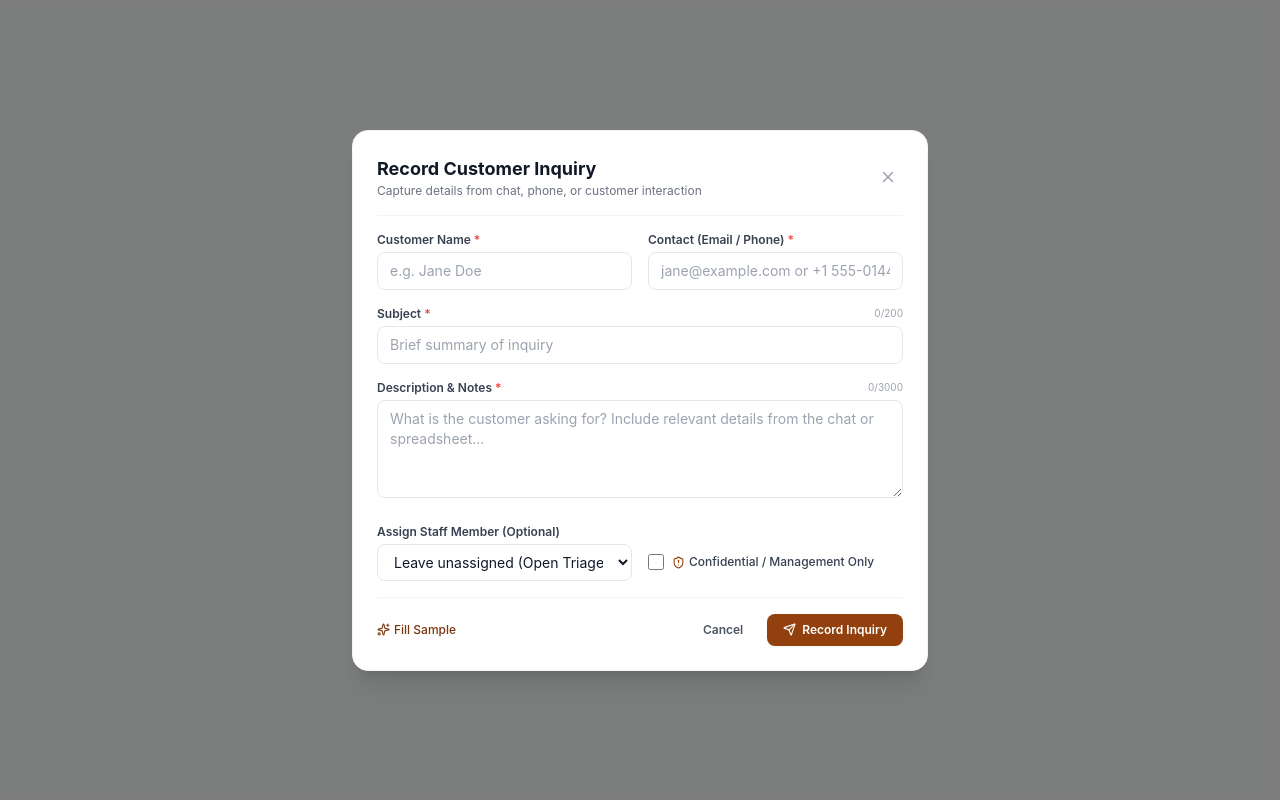
InquiryForm User Interaction & Validation › displays inline validation errors when submitting with empty fields
Click the button "Record Inquiry". click: (835, 630)
box: [767,614,903,646]
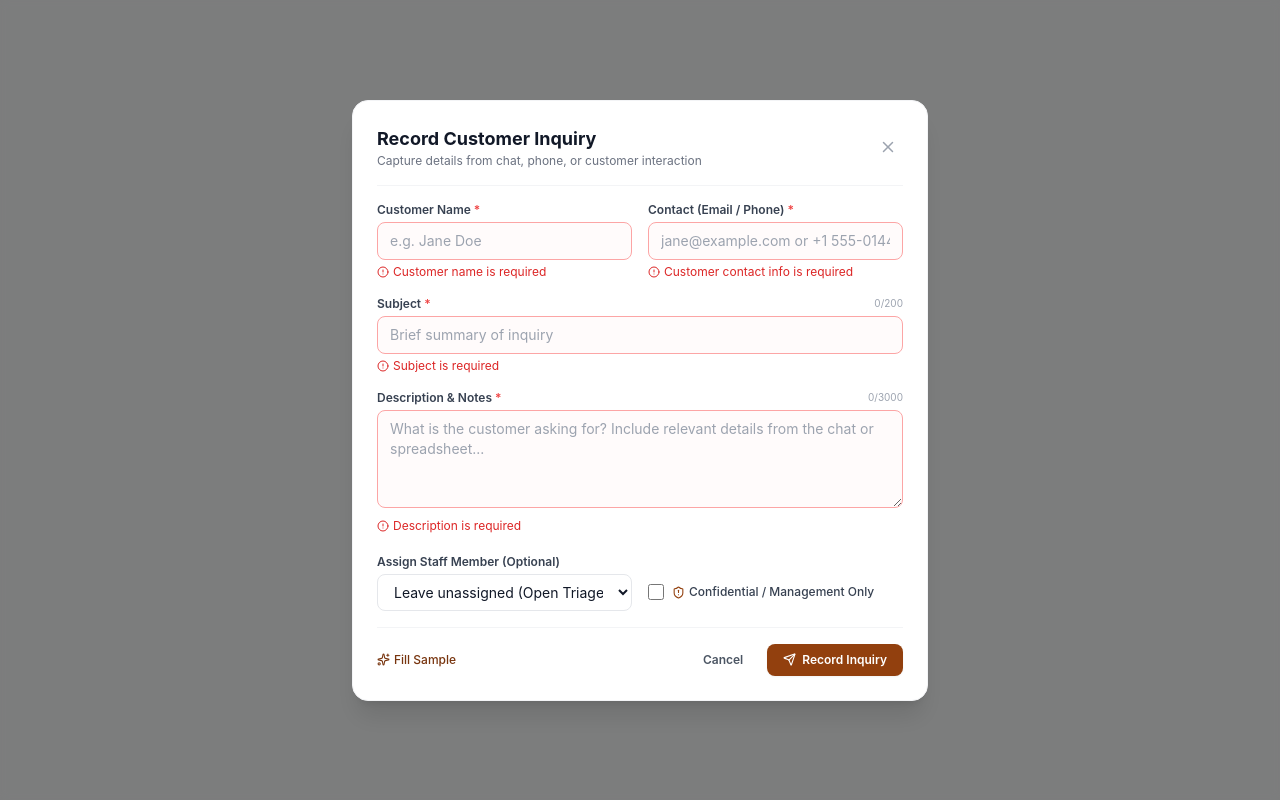
Result: the text "Customer name is required" is shown at [377,264,546,278]
Result: the text "Customer contact info is required" is shown at [648,264,853,278]
Result: the text "Subject is required" is shown at [377,358,499,372]
